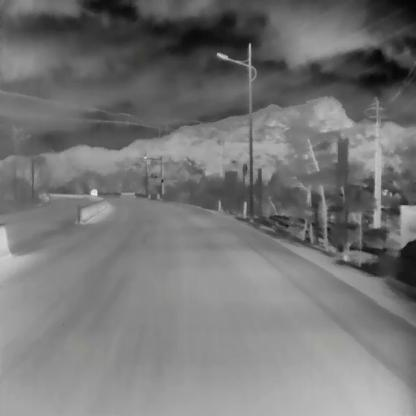car: (89, 188, 98, 195)
